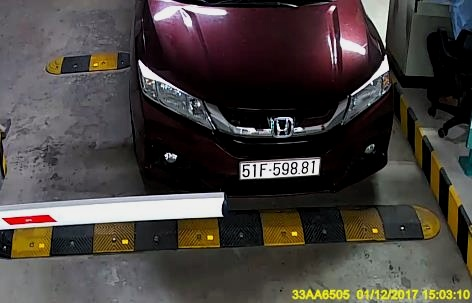plate: (236, 154, 322, 179)
